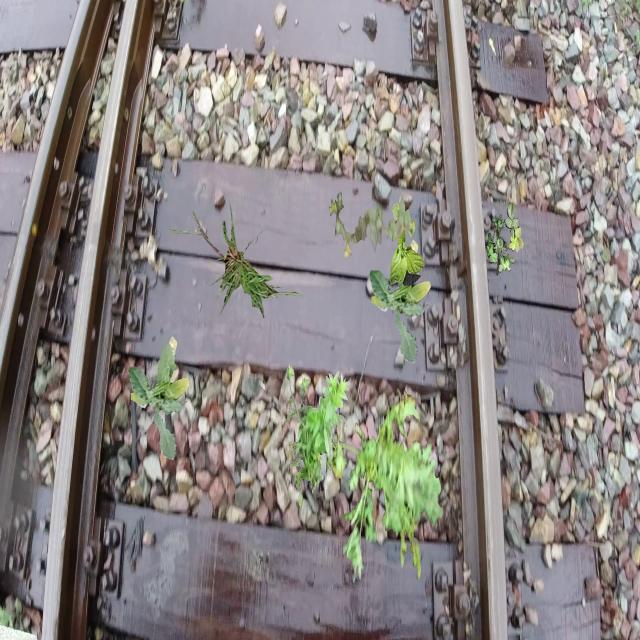Plant: (319, 388, 444, 584), (169, 199, 312, 318), (285, 363, 350, 506), (369, 239, 432, 364), (128, 336, 190, 461), (329, 191, 416, 260), (390, 203, 426, 286), (486, 202, 524, 276)
